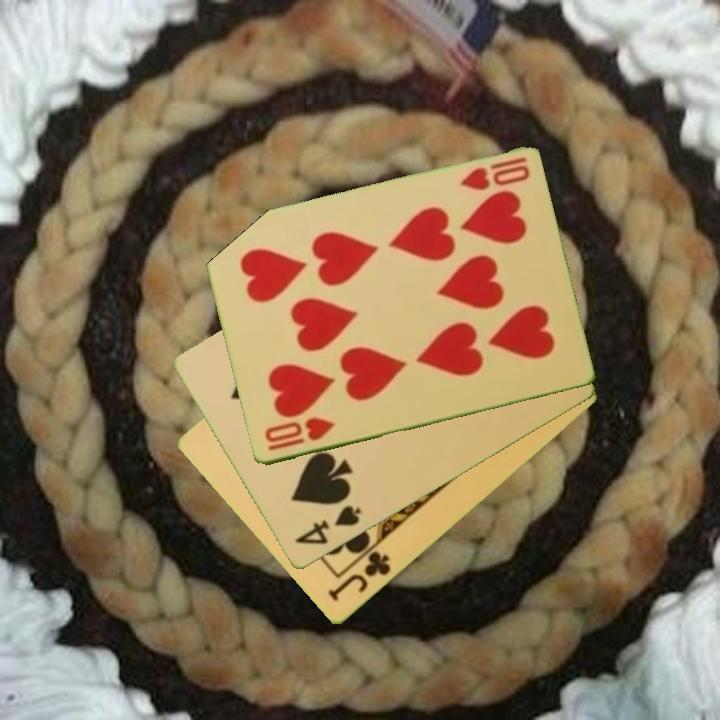10h: (261, 414, 338, 454), (456, 154, 533, 194)
4s: (291, 502, 364, 549)
Jc: (325, 548, 394, 606)
